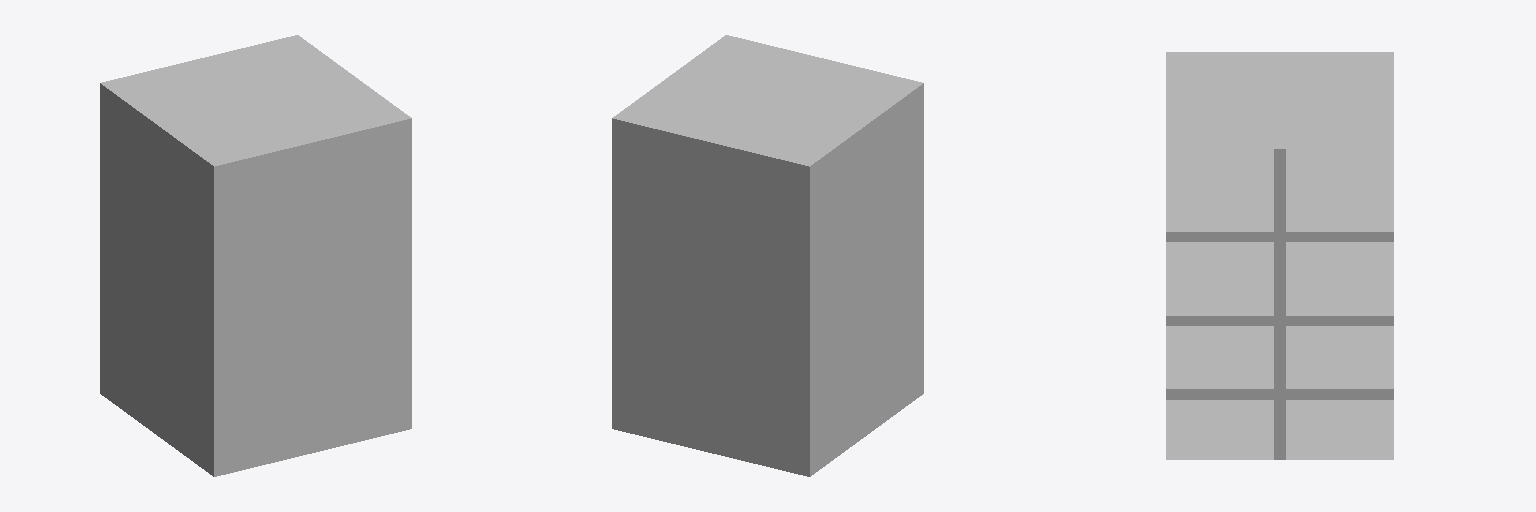
Rendered from fridge.obj.
3 views of the same model, side by side, from view 1: azimuth 30°, elevation 25°; view 2: azimuth 150°, elevation 25°; view 3: azimuth 270°, elevation 25° (orthographic).
Visible parts, largest first — view 1: Cube; view 2: Cube; view 3: Cube.
Part boxes in pixels (x1,y1,x2,y2): Cube: (100,35,411,476); Cube: (612,35,923,476); Cube: (1166,52,1393,459).
Size of the model in its own units: 4 by 6 by 4.